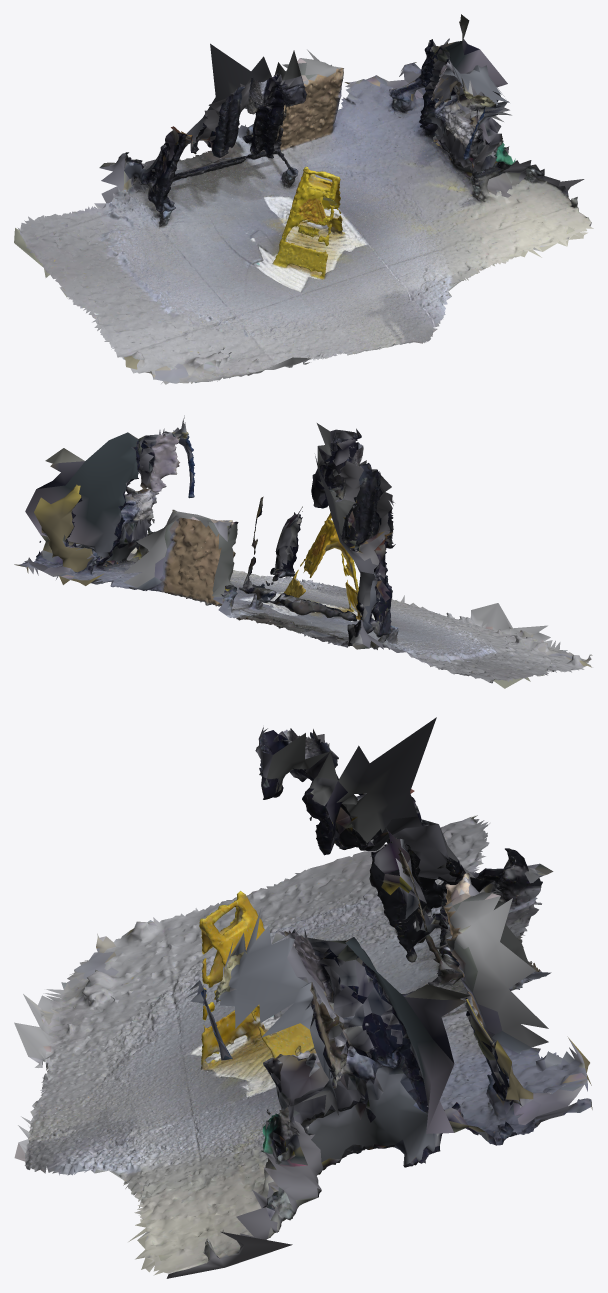
The model's file is 10_piso_roto.glb.
3 renders of one model, top to bottom at view 1: azimuth 30°, elevation 25°; view 2: azimuth 150°, elevation 25°; view 3: azimuth 270°, elevation 25°, orthographic. The views are drawn at different scales.
Parts seen in each view (by area): view 1: piso_roto.002, piso_roto.001, piso_roto.003; view 2: piso_roto.001, piso_roto.002, piso_roto.003; view 3: piso_roto.001, piso_roto.002, piso_roto.003.
Part boxes in pixels (x1,y1,x2,y2): piso_roto.002: [14, 87, 379, 384]; piso_roto.001: [282, 14, 593, 315]; piso_roto.003: [184, 43, 443, 349]; piso_roto.001: [14, 415, 312, 596]; piso_roto.002: [296, 463, 592, 688]; piso_roto.003: [182, 423, 404, 631]; piso_roto.001: [67, 888, 592, 1278]; piso_roto.002: [14, 732, 553, 1122]; piso_roto.003: [14, 717, 551, 1175].
Bounding box in the file's own units: 32.5 × 15.11 × 19.96.
Materials: 1 (1 with a texture image).
